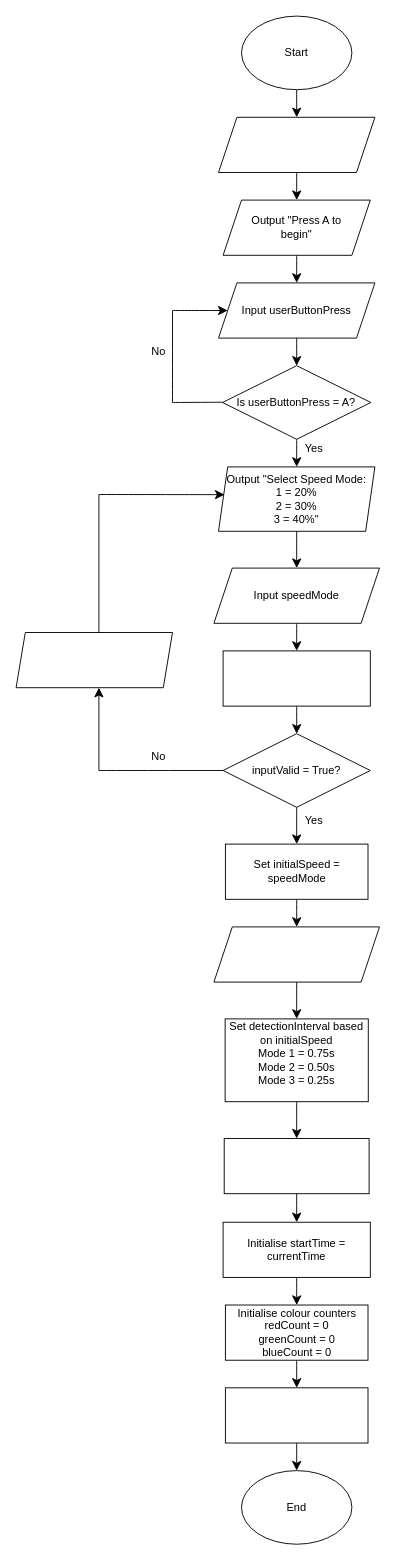
The diagram is 396 pixels wide and 1560 high, and some of its shapes have lost their labels. Each missing label, with the centre of its shape:
Initialise lightCount lightCount = 0: pixel 296 1415
Output "Invalid speed mode entered, please try again": pixel 93 660
Output "Welcome To Traffic Lights!": pixel 296 144
Output initialSpeed: pixel 296 954
Set underlights to yellow: pixel 296 1166
Validate input speedMode (speedMode = 1,2,3): pixel 296 678
